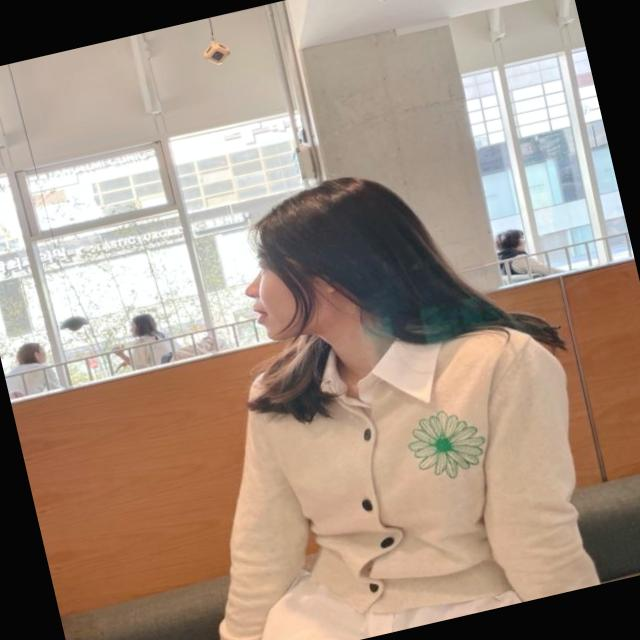cardigan: (133, 287, 612, 640)
